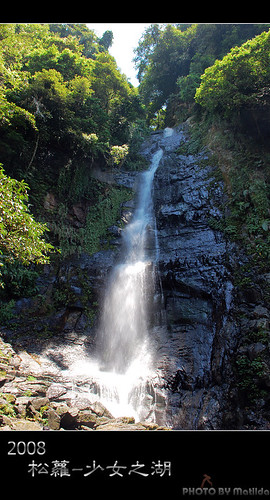wufengciWaterfall: (70, 115, 208, 395)
